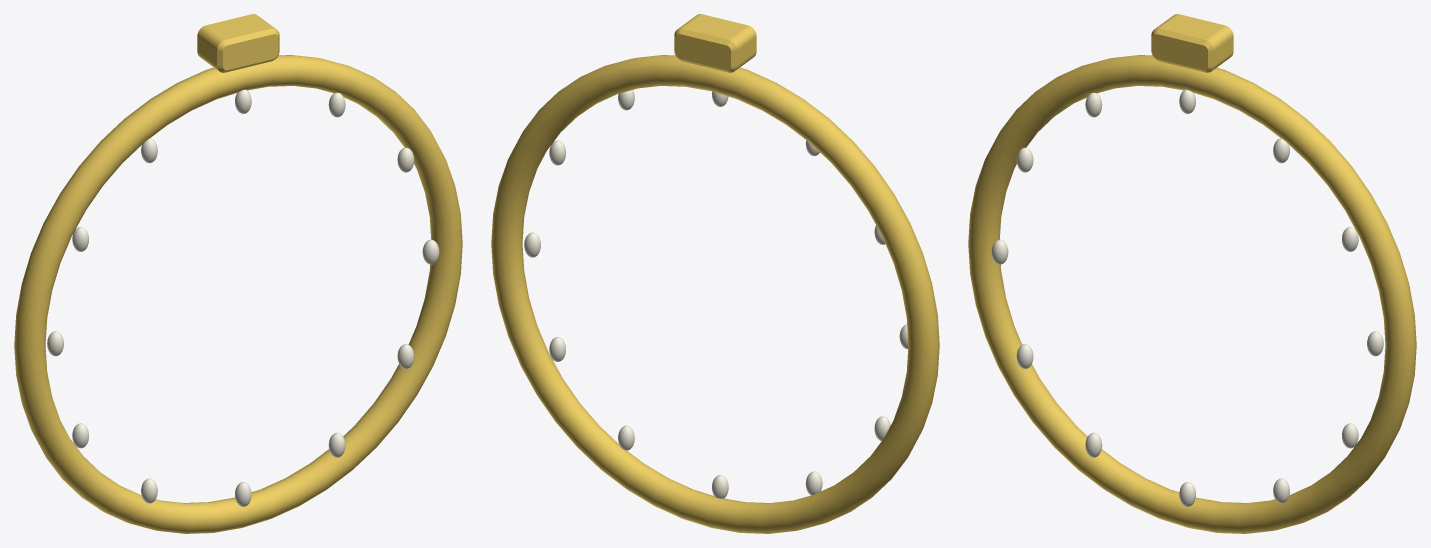
Rendered from conch_upgrade_clock_rim.glb.
3 renders of one model, left to right at view 1: azimuth 30°, elevation 25°; view 2: azimuth 150°, elevation 25°; view 3: azimuth 330°, elevation 25°, orthographic.
Bounding box in the file's own units: 21.3 × 22.9 × 2.
